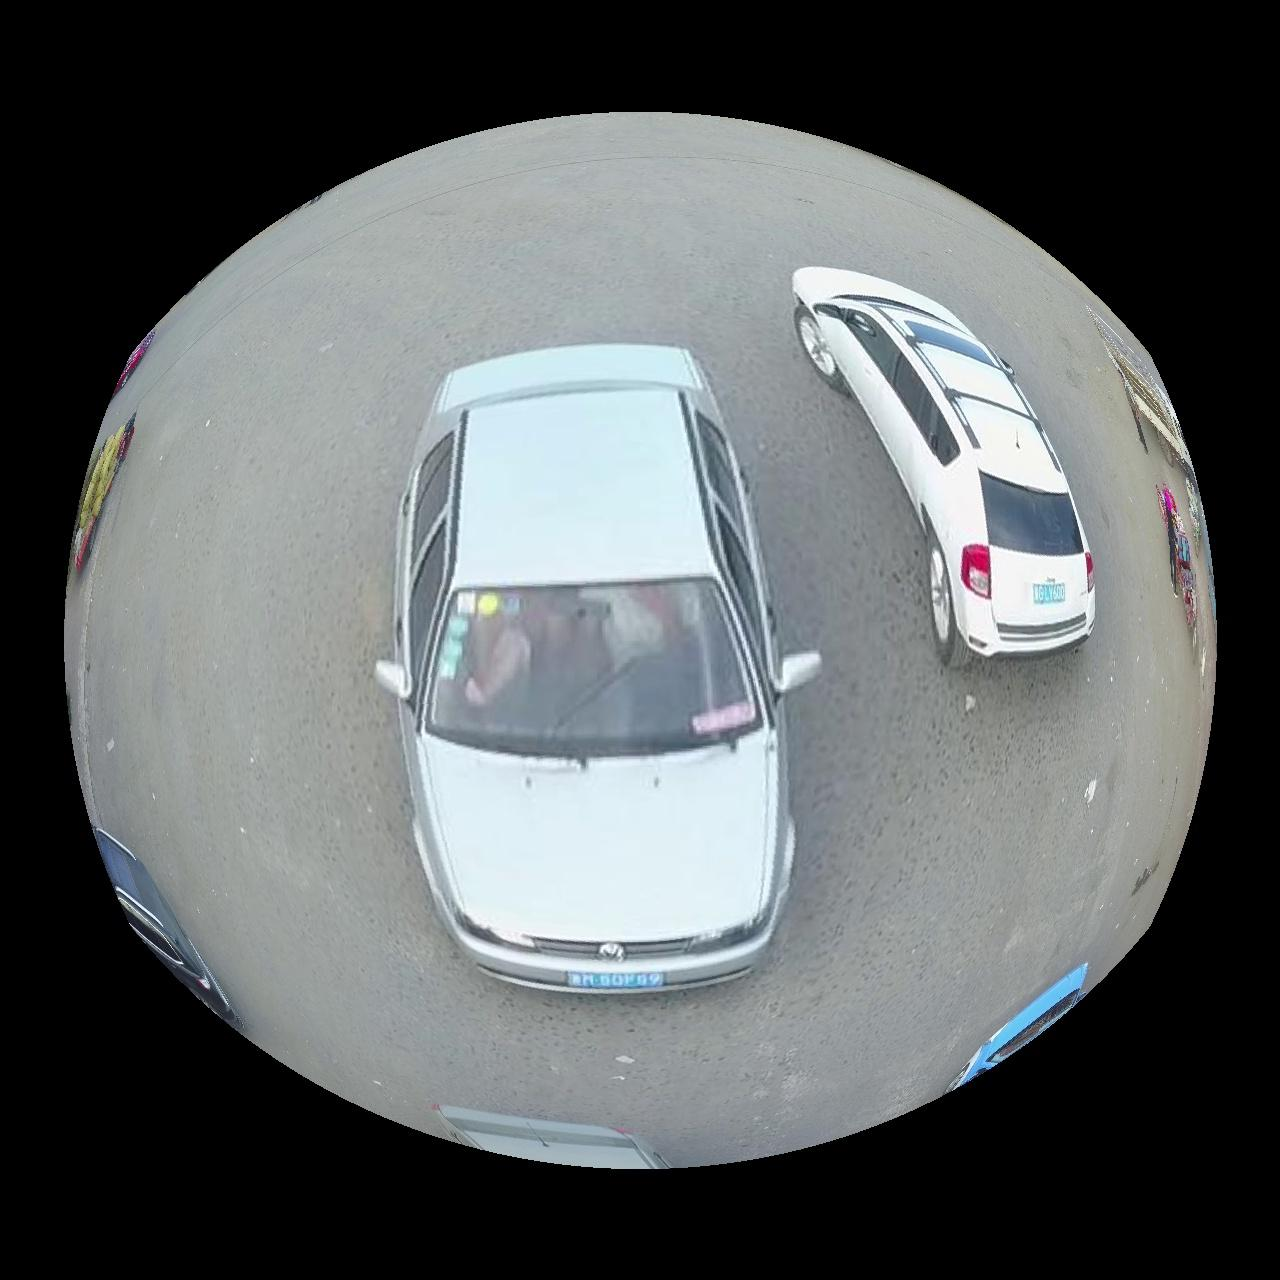cars: (375, 343, 822, 994), (794, 266, 1098, 663), (94, 830, 237, 1027), (951, 966, 1090, 1091), (436, 1108, 665, 1171)
